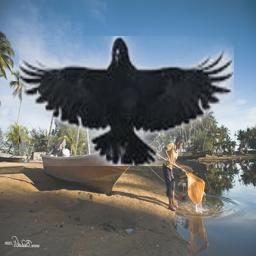Crow: (19, 36, 234, 166)
